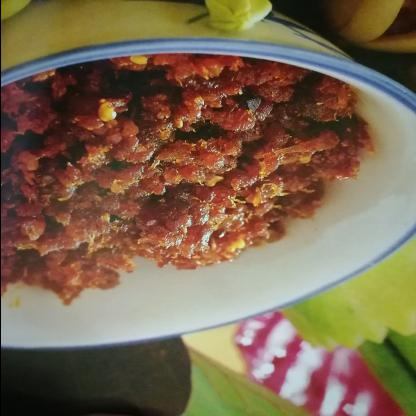Namprig: (1, 51, 390, 324)
